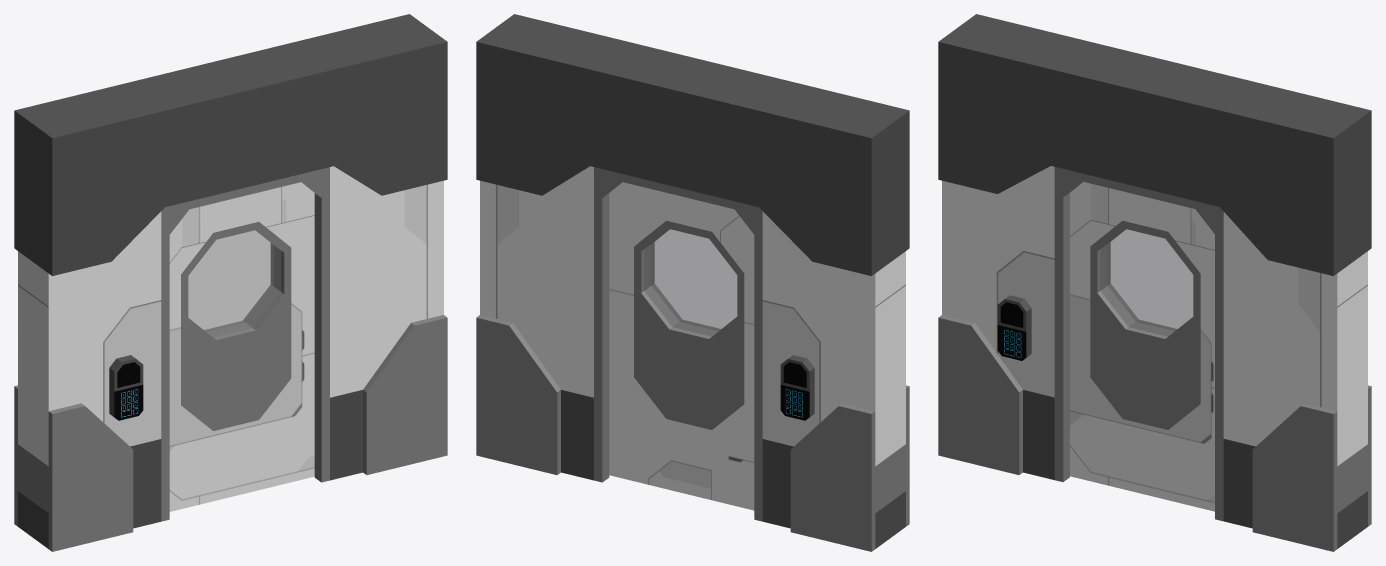
Rendered from SM_Wall_3x3_Door_1.fbx.
The picture shows the model from 3 angles, left to right: view 1: azimuth 30°, elevation 25°; view 2: azimuth 150°, elevation 25°; view 3: azimuth 330°, elevation 25°; orthographic projection.
Visible parts, largest first — view 1: SM_Wall_3x3_Door_1, SM_3x3_Door_1; view 2: SM_Wall_3x3_Door_1, SM_3x3_Door_1; view 3: SM_Wall_3x3_Door_1, SM_3x3_Door_1.
Boxes of the visible parts, x1,y1,x2,y2 form: SM_Wall_3x3_Door_1: (14,14,447,551); SM_3x3_Door_1: (169,182,314,511); SM_Wall_3x3_Door_1: (476,14,909,551); SM_3x3_Door_1: (609,182,754,510); SM_Wall_3x3_Door_1: (938,14,1371,551); SM_3x3_Door_1: (1070,182,1214,511).
Size of the model in its own units: 300 by 300 by 53.71.
